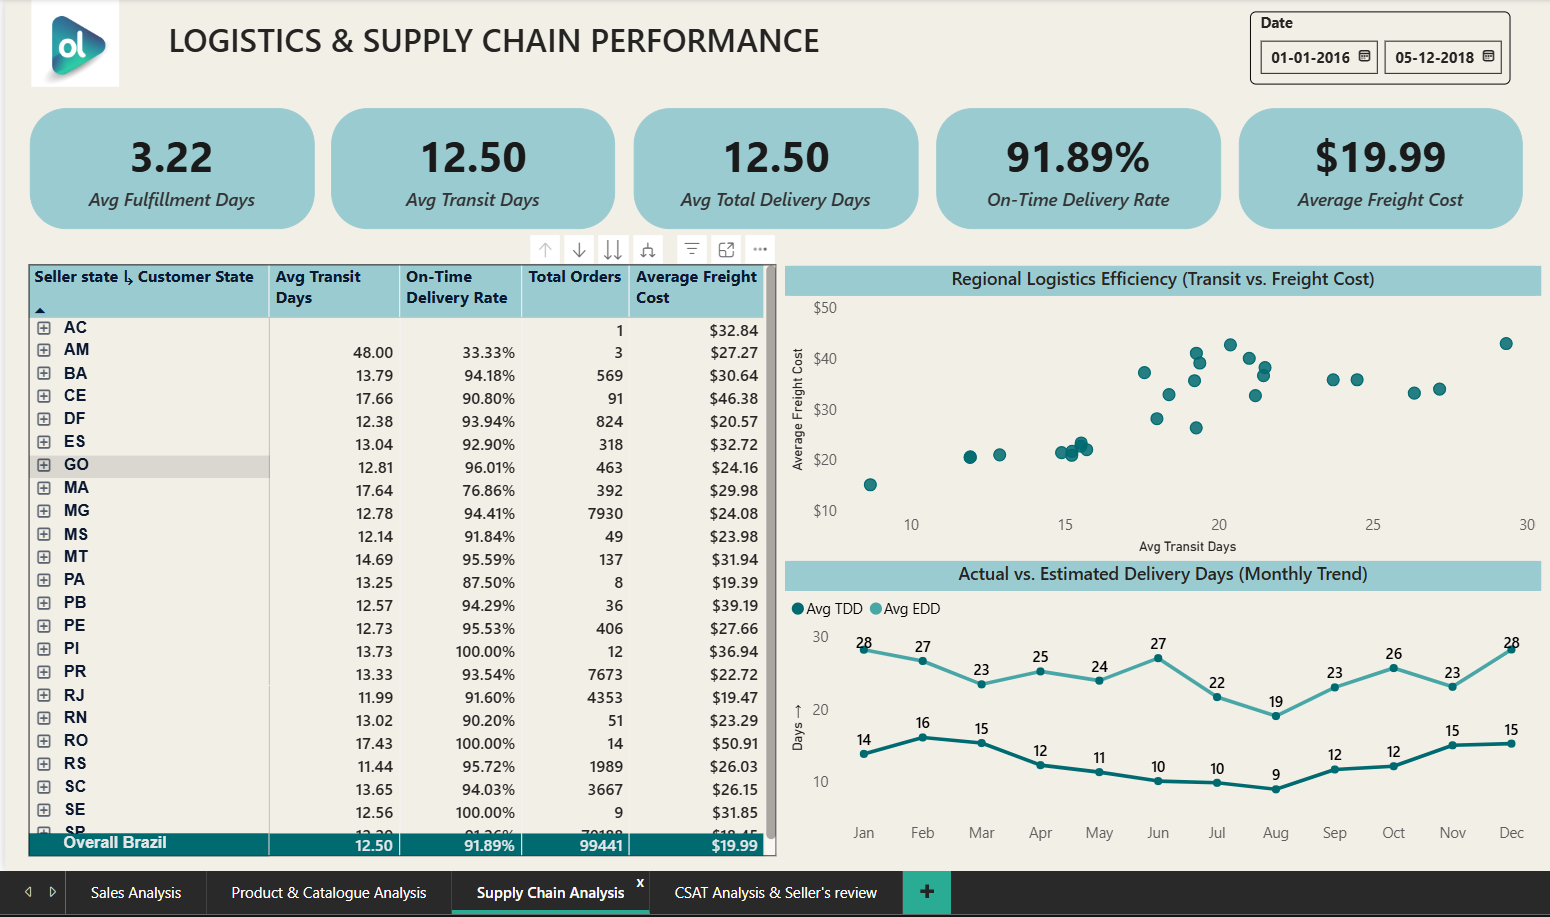

This screenshot's page, from the dashboard's own definition file:
{"tool":"powerbi","page":{"name":"Supply Chain Analysis","canvas":[1280,720],"ordinal":2},"visuals":[{"type":"card","fields":{"Values":["olist_orders_dataset.Avg Fulfillment Days"]},"box":[20,90,235.6,100],"z":0},{"type":"card","fields":{"Values":["olist_orders_dataset.Avg Transit Days"]},"box":[270,90,235,100],"z":1000},{"type":"card","fields":{"Values":["olist_orders_dataset.Avg Total Delivery Days"]},"box":[520,90,235.6,100],"z":2000},{"type":"card","fields":{"Values":["olist_orders_dataset.On-Time Delivery Rate"]},"box":[770,90,235.6,100],"z":3000},{"type":"card","fields":{"Values":["olist_order_items_dataset.Average Freight Cost"]},"box":[1020,90,235,100],"z":4000},{"type":"pivotTable","fields":{"Values":["olist_orders_dataset.Avg Transit Days","olist_orders_dataset.On-Time Delivery Rate","olist_orders_dataset.Total Orders","olist_order_items_dataset.Average Freight Cost"],"Rows":["olist_sellers_dataset.seller_state","olist_customers_dataset.Customer Full State"]},"box":[19.5,219.5,618.2,488.3],"z":5000},{"type":"scatterChart","title":"Regional Logistics Efficiency (Transit vs. Freight Cost)","fields":{"X":["olist_orders_dataset.Avg Transit Days"],"Category":["olist_customers_dataset.customer_state"],"Y":["olist_order_items_dataset.Average Freight Cost"]},"box":[645,220,625,243.8],"z":6000},{"type":"lineChart","title":"Actual vs. Estimated Delivery Days (Monthly Trend)","fields":{"Y":["olist_orders_dataset.Avg Total Delivery Days","olist_orders_dataset.Avg Estimated Delivery Days"],"Category":["Calendar.MonthShort"]},"box":[645,463.8,625,243.8],"z":7000},{"type":"textbox","box":[129.8,10.3,582.6,62],"z":8000},{"type":"slicer","fields":{"Values":["Calendar.Date"]},"box":[1029.1,10.5,215.1,60.5],"z":9000},{"type":"image","box":[0,0,116.1,72.4],"z":10000}]}

Visuals, with their boxes on the page's 1280x720 design canvas (x1, y1, x2, y2). These are canvas units, not pixel positions in the 1550x917 screenshot, which may show the page scaled, cropped or inside an application window:
card - olist_orders_dataset.Avg Fulfillment Days: crop(20, 90, 256, 190)
card - olist_orders_dataset.Avg Transit Days: crop(270, 90, 505, 190)
card - olist_orders_dataset.Avg Total Delivery Days: crop(520, 90, 756, 190)
card - olist_orders_dataset.On-Time Delivery Rate: crop(770, 90, 1006, 190)
card - olist_order_items_dataset.Average Freight Cost: crop(1020, 90, 1255, 190)
pivotTable - olist_orders_dataset.Avg Transit Days x olist_orders_dataset.On-Time Delivery Rate: crop(20, 220, 638, 708)
"Regional Logistics Efficiency (Transit vs. Freight Cost)" scatterChart: crop(645, 220, 1270, 464)
"Actual vs. Estimated Delivery Days (Monthly Trend)" lineChart: crop(645, 464, 1270, 708)
textbox: crop(130, 10, 712, 72)
slicer - Calendar.Date: crop(1029, 10, 1244, 71)
image: crop(0, 0, 116, 72)
